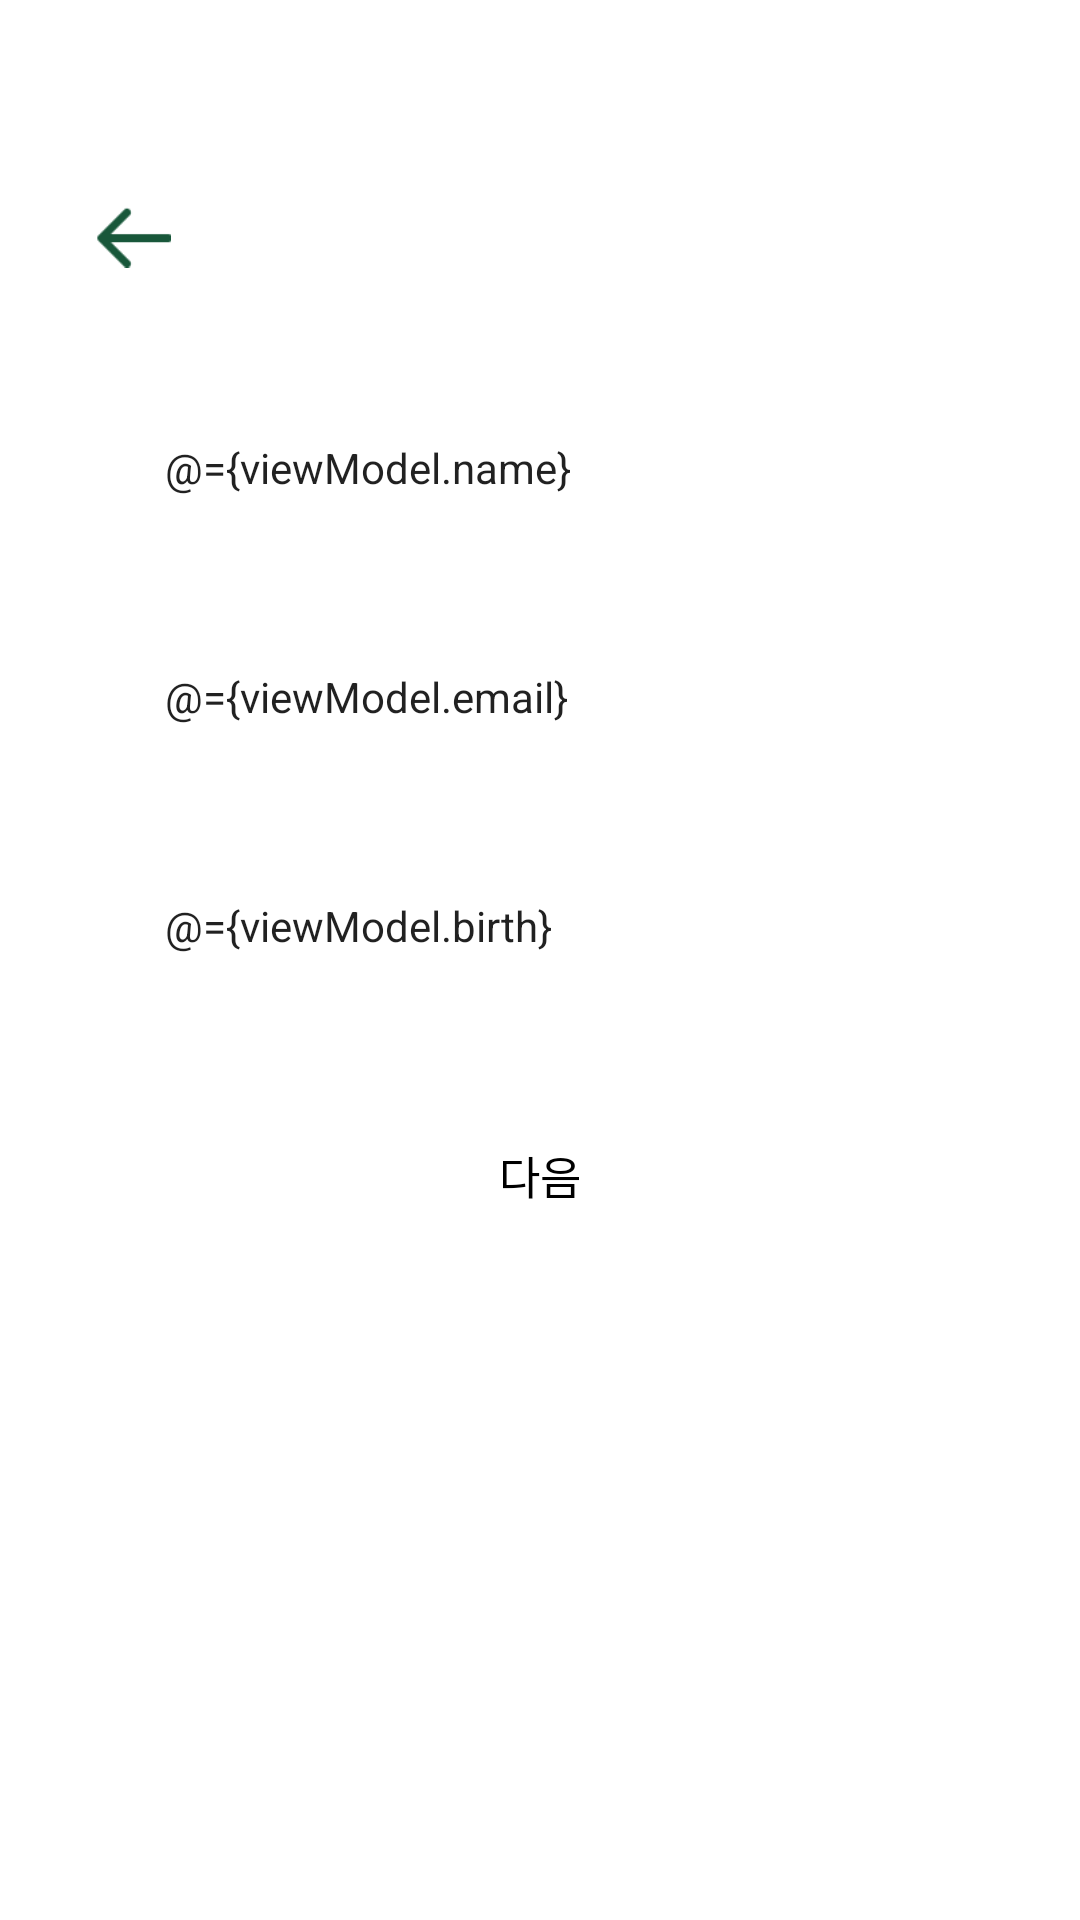

Icon bounding boxes for this 1080x1920 phone screenshot, format (x1, y1, x2, y2):
arrow back: (97, 208, 171, 268)
